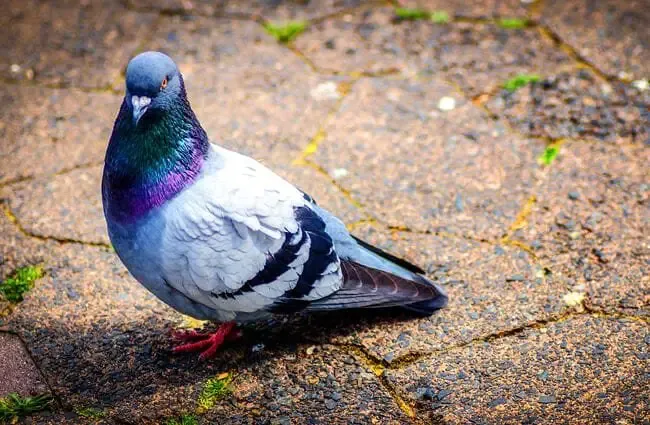Flying Rat: (96, 56, 442, 359)
